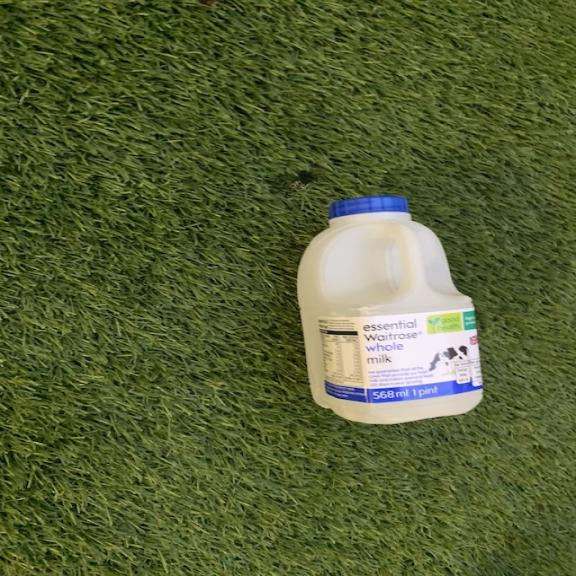Plastik: (295, 193, 490, 429)
